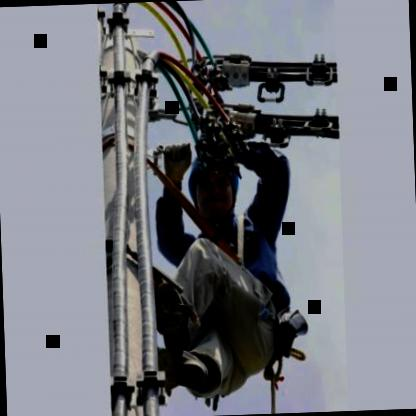helmet: (184, 142, 244, 224)
